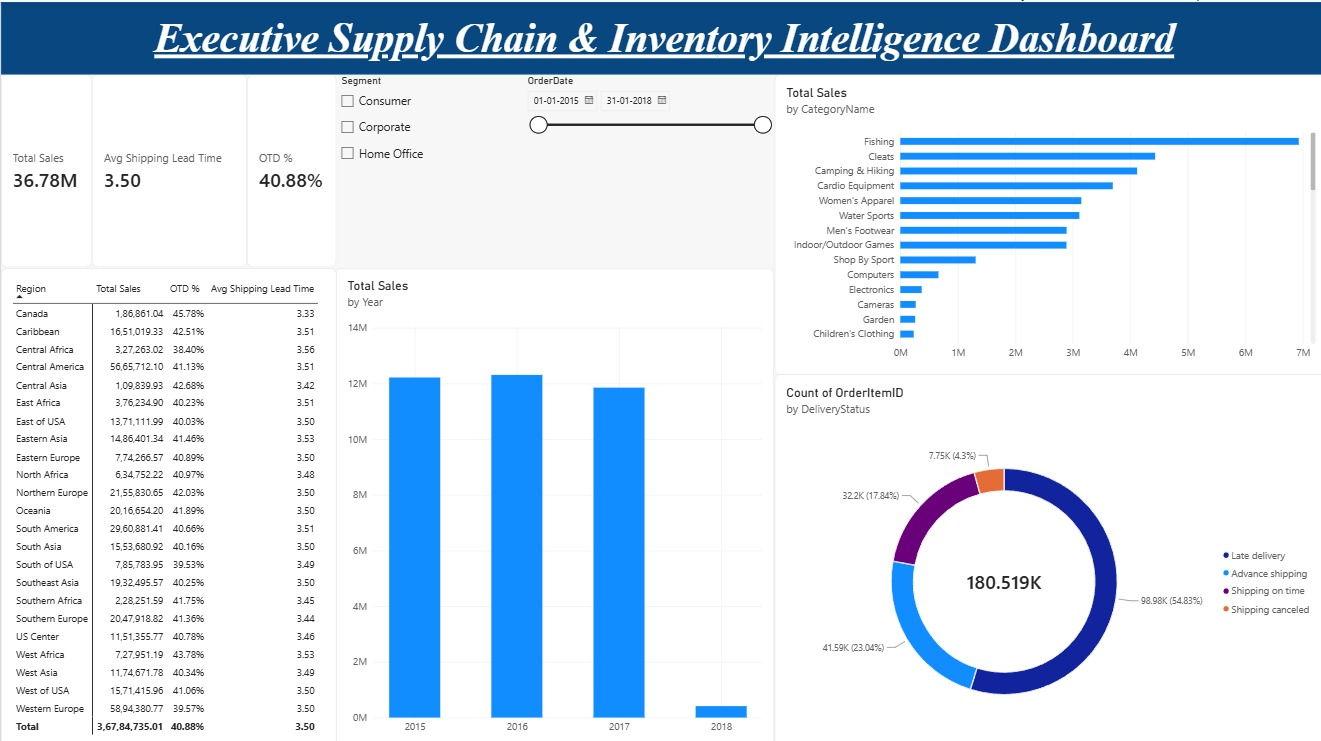

The dashboard page shown, as its layout file describes it:
{"tool":"powerbi","page":{"name":"Page 1","canvas":[1920,1080],"ordinal":0},"visuals":[{"type":"cardVisual","fields":{"Data":["Dim_Customer.Total Sales"]},"box":[0,105,131.7,279.9],"z":0},{"type":"clusteredBarChart","fields":{"Category":["Dim_Product.CategoryName"],"Y":["Dim_Customer.Total Sales"]},"box":[1119.7,105,800.7,434.3],"z":1000},{"type":"pivotTable","fields":{"Rows":["Dim_Warehouse.Region"],"Values":["Dim_Customer.Total Sales","Dim_Customer.OTD %","Dim_Customer.Avg Shipping Lead Time"]},"box":[0,384.9,485.8,695.7],"z":2000},{"type":"cardVisual","fields":{"Data":["Dim_Customer.OTD %"]},"box":[356.1,105,129.7,279.9],"z":3000},{"type":"cardVisual","fields":{"Data":["Dim_Customer.Avg Shipping Lead Time"]},"box":[131.7,105,224.4,279.9],"z":4000},{"type":"donutChart","fields":{"Category":["Fact_Sales.DeliveryStatus"],"Y":["CountNonNull(Fact_Sales.OrderItemID)"]},"box":[1119.7,539.3,800.7,541.3],"z":5000},{"type":"slicer","fields":{"Values":["Fact_Sales.OrderDate"]},"box":[755.4,105,364.3,304.6],"z":6000},{"type":"slicer","fields":{"Values":["Dim_Customer.Segment"]},"box":[485.8,105,269.6,269.6],"z":7000},{"type":"shape","box":[0,0,1920.4,105],"z":7001},{"type":"textbox","box":[0,20.6,1920.4,84.4],"z":7002},{"type":"clusteredColumnChart","fields":{"Category":["Fact_Sales.ShipDate.Variation.Date Hierarchy.Year"],"Y":["Dim_Customer.Total Sales"]},"box":[485.8,384.9,634,695.7],"z":7003}]}

Visuals, with their boxes in screenshot pixels (x1, y1, x2, y2), scaled from the page's 1920x1080 canvas onto the 1321x741 screenshot:
cardVisual - Dim_Customer.Total Sales: <region>0, 72, 91, 264</region>
clusteredBarChart - Dim_Product.CategoryName x Dim_Customer.Total Sales: <region>770, 72, 1320, 370</region>
pivotTable - Dim_Warehouse.Region x Dim_Customer.Total Sales: <region>0, 264, 334, 740</region>
cardVisual - Dim_Customer.OTD %: <region>245, 72, 334, 264</region>
cardVisual - Dim_Customer.Avg Shipping Lead Time: <region>91, 72, 245, 264</region>
donutChart - Fact_Sales.DeliveryStatus x CountNonNull(Fact_Sales.OrderItemID): <region>770, 370, 1320, 740</region>
slicer - Fact_Sales.OrderDate: <region>520, 72, 770, 281</region>
slicer - Dim_Customer.Segment: <region>334, 72, 520, 257</region>
shape: <region>0, 0, 1320, 72</region>
textbox: <region>0, 14, 1320, 72</region>
clusteredColumnChart - Fact_Sales.ShipDate.Variation.Date Hierarchy.Year x Dim_Customer.Total Sales: <region>334, 264, 770, 740</region>
